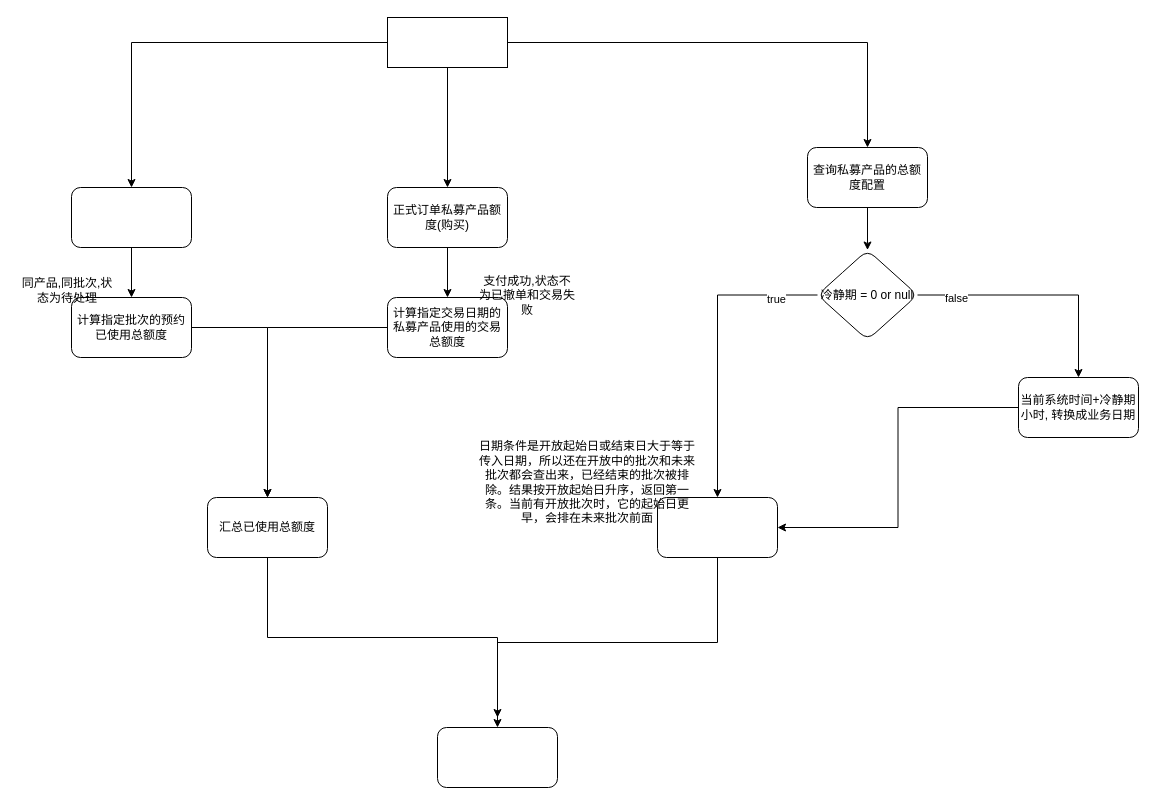
Some shapes in this 1156 by 805 pixel diagram are drawn without their labels. Here are the shapes that lost their labels. From the top down, the centre of each, then its label:
At (447,42): "私募产品售卖额度".
At (131,217): "私募产品预约额度控制(购买)".
At (717,527): "当前业务日期查询配置私募产品额度".
At (497,757): "判断购买的额度是否满足条件".
